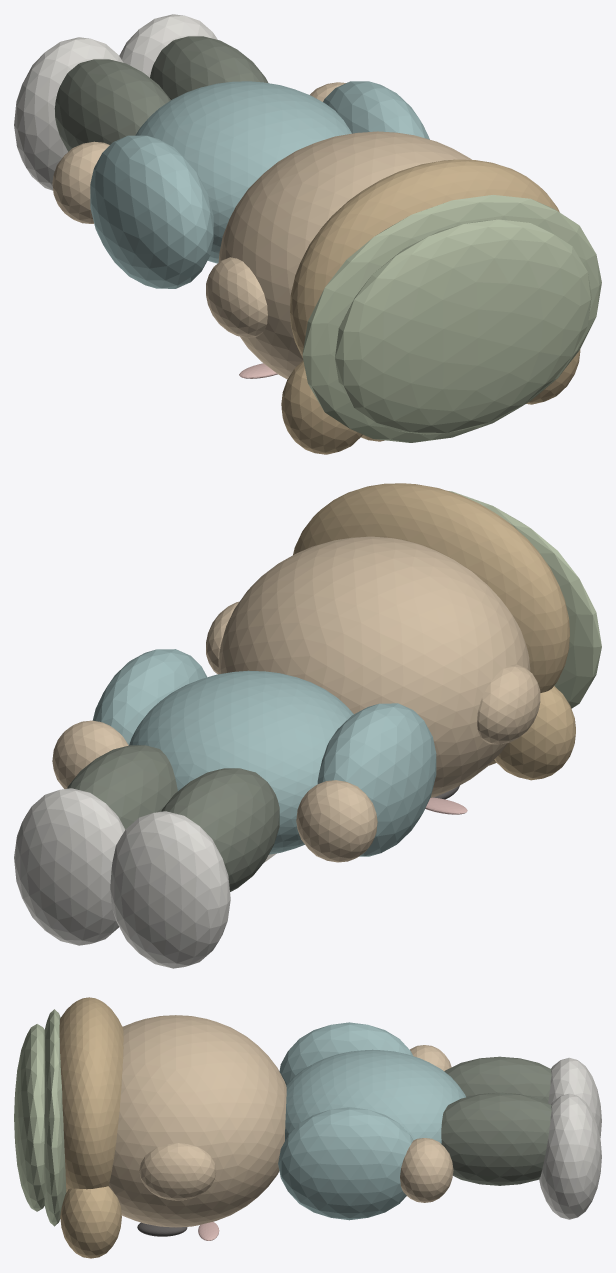
3 views of the same model, one above another, from view 1: azimuth 30°, elevation 25°; view 2: azimuth 150°, elevation 25°; view 3: azimuth 270°, elevation 25° (orthographic). The views are drawn at different scales.
Parts seen in each view (by area): view 1: beret_crown, head_base, body_shirt, sleeve_L, beret_brim, hair_cap, leg_L, shoe_L, leg_R, ear_L, sleeve_R, fringe_0 (+3 smaller); view 2: head_base, body_shirt, hair_cap, shoe_L, shoe_R, sleeve_L, leg_L, leg_R, hand_L, sleeve_R, beret_brim, fringe_0 (+3 smaller); view 3: head_base, sleeve_R, hair_cap, body_shirt, leg_R, shoe_R, beret_crown, beret_brim, fringe_4, ear_R, sleeve_L, leg_L (+4 smaller).
Part boxes in pixels (x1,y1,x2,y2): beret_crown: [335, 219, 591, 434]; head_base: [218, 131, 471, 379]; body_shirt: [135, 81, 351, 263]; sleeve_L: [90, 135, 213, 288]; beret_brim: [302, 195, 601, 442]; hair_cap: [290, 159, 559, 357]; leg_L: [54, 59, 170, 151]; shoe_L: [14, 37, 123, 190]; leg_R: [150, 36, 268, 99]; ear_L: [206, 257, 267, 337]; sleeve_R: [323, 81, 429, 139]; fringe_0: [281, 360, 362, 454]; head_base: [218, 536, 530, 797]; body_shirt: [129, 670, 353, 854]; hair_cap: [293, 483, 569, 692]; shoe_L: [110, 811, 230, 968]; shoe_R: [14, 788, 125, 945]; sleeve_L: [317, 703, 436, 856]; leg_L: [161, 768, 279, 891]; leg_R: [67, 745, 177, 829]; hand_L: [296, 780, 377, 862]; sleeve_R: [92, 649, 206, 744]; beret_brim: [448, 491, 601, 708]; fringe_0: [494, 686, 575, 780]; head_base: [109, 1015, 286, 1227]; sleeve_R: [278, 1107, 413, 1220]; hair_cap: [59, 997, 123, 1192]; body_shirt: [285, 1049, 465, 1143]; leg_R: [441, 1092, 551, 1185]; shoe_R: [539, 1093, 601, 1219]; beret_crown: [14, 1024, 44, 1211]; beret_brim: [44, 1009, 66, 1226]; fringe_4: [60, 1186, 121, 1258]; ear_R: [139, 1143, 216, 1200]; sleeve_L: [279, 1022, 412, 1084]; leg_L: [444, 1056, 551, 1102].
Bounding box in the file's own units: 1.48 × 1.19 × 3.05.
